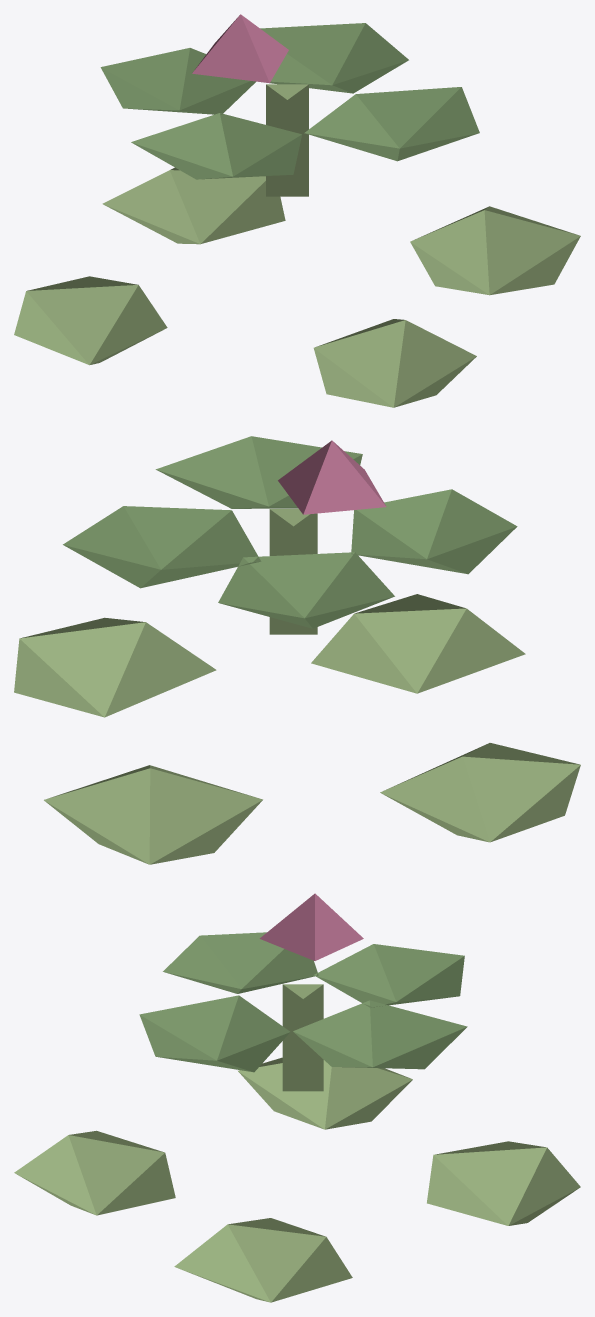
The model's file is shrub.cold.lichen__summer.glb.
The picture shows the model from 3 angles, top to bottom: view 1: azimuth 30°, elevation 25°; view 2: azimuth 150°, elevation 25°; view 3: azimuth 270°, elevation 25°; orthographic projection. The views are drawn at different scales.
Parts seen in each view (by area): view 1: shrub.cold.lichen__summer; view 2: shrub.cold.lichen__summer; view 3: shrub.cold.lichen__summer.
Part boxes in pixels (x1,y1,x2,y2): shrub.cold.lichen__summer: [14, 14, 580, 407]; shrub.cold.lichen__summer: [14, 436, 580, 864]; shrub.cold.lichen__summer: [14, 893, 580, 1302].
Size of the model in its own units: 0.8845 by 0.5123 by 0.8651.
